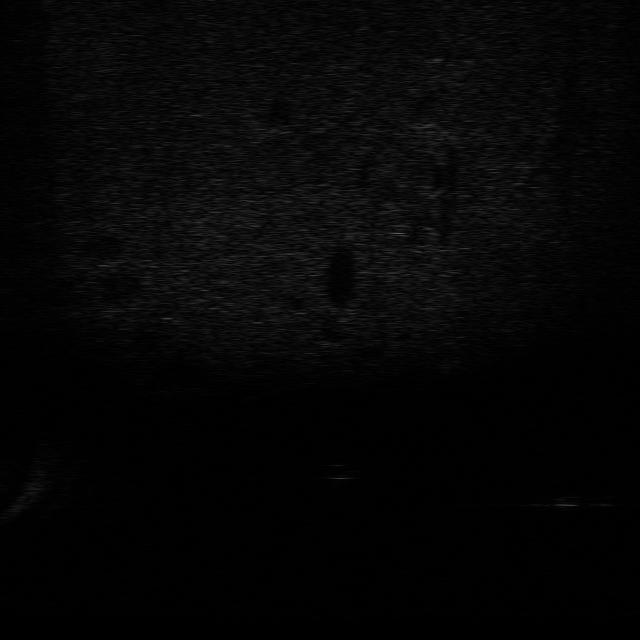ball: (315, 458, 361, 486)
square cage: (526, 485, 612, 515)
tyre: (424, 337, 468, 372)
